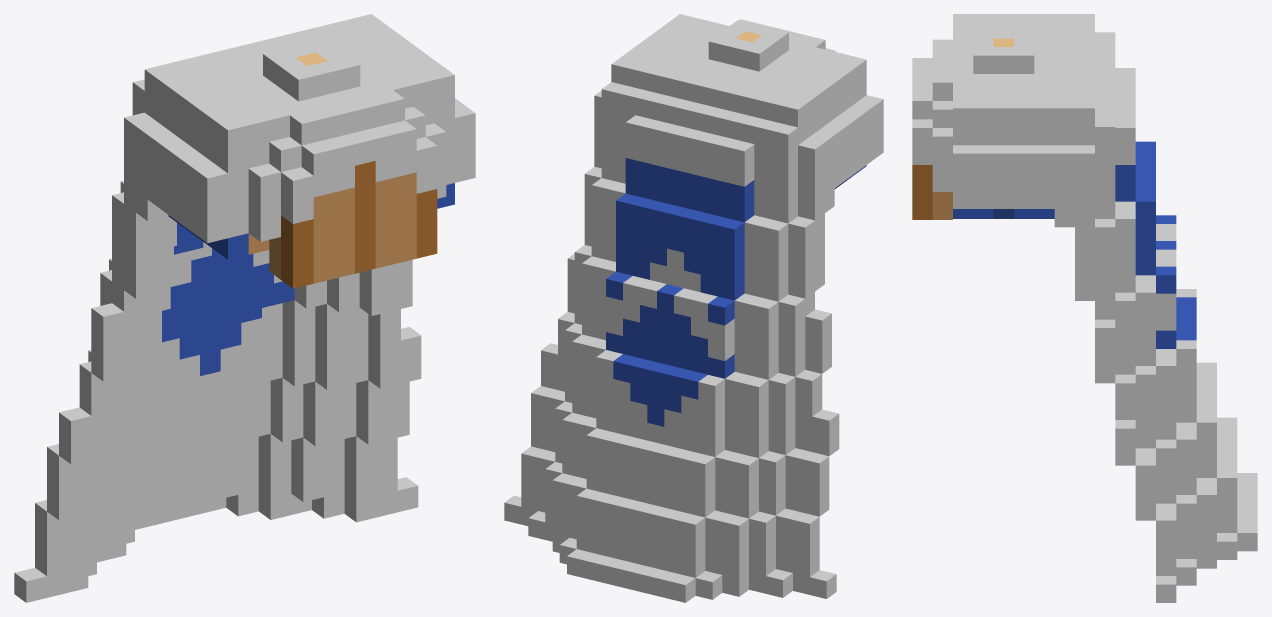
The model's file is FKnightChest.fbx.
3 views of the same model, side by side, from view 1: azimuth 30°, elevation 25°; view 2: azimuth 150°, elevation 25°; view 3: azimuth 270°, elevation 25° (orthographic). The views are drawn at different scales.
Parts seen in each view (by area): view 1: FemKnightBody_part; view 2: FemKnightBody_part; view 3: FemKnightBody_part.
Part boxes in pixels (box(x1,y1,x2,y2)): FemKnightBody_part: box(14, 14, 475, 602); FemKnightBody_part: box(504, 14, 883, 602); FemKnightBody_part: box(912, 14, 1257, 602).
Size of the model in its own units: 19 by 26 by 17.
1 material, 1 textured.
